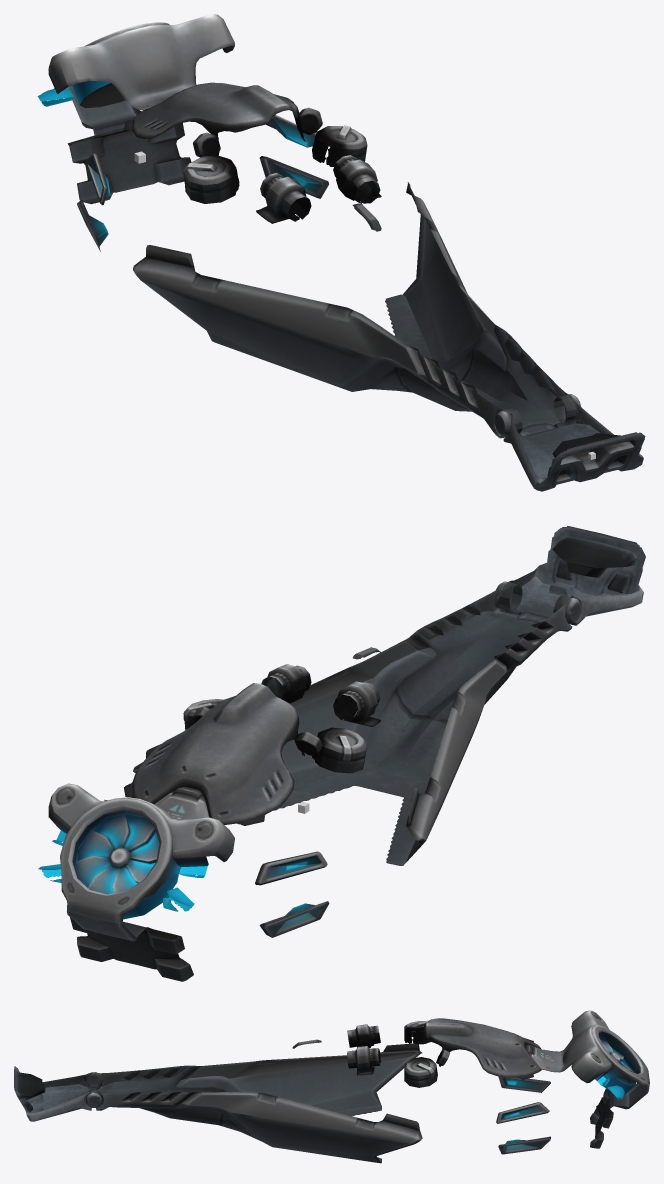
File: Freeze_Standart.fbx
3 views of the same model, one above another, from view 1: azimuth 30°, elevation 25°; view 2: azimuth 150°, elevation 25°; view 3: azimuth 270°, elevation 25° (orthographic). The views are drawn at different scales.
Visible parts, largest first — view 1: turret; view 2: turret, fan; view 3: turret, fan.
Boxes of the visible parts, left/top/right/bottom form: turret: left=37, top=14, right=645, bottom=491; turret: left=38, top=526, right=645, bottom=981; fan: left=75, top=814, right=159, bottom=894; turret: left=14, top=1010, right=649, bottom=1163; fan: left=600, top=1039, right=634, bottom=1072.
Size of the model in its own units: 2.11 by 1.21 by 6.08.
